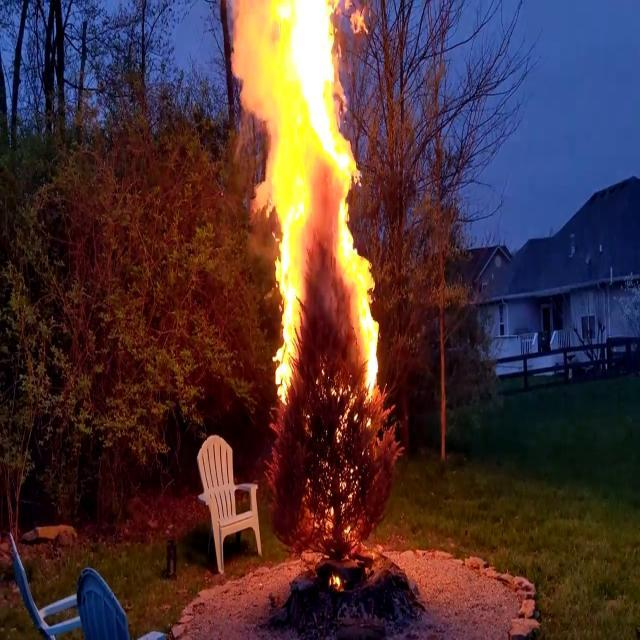Fire: (232, 1, 386, 407)
